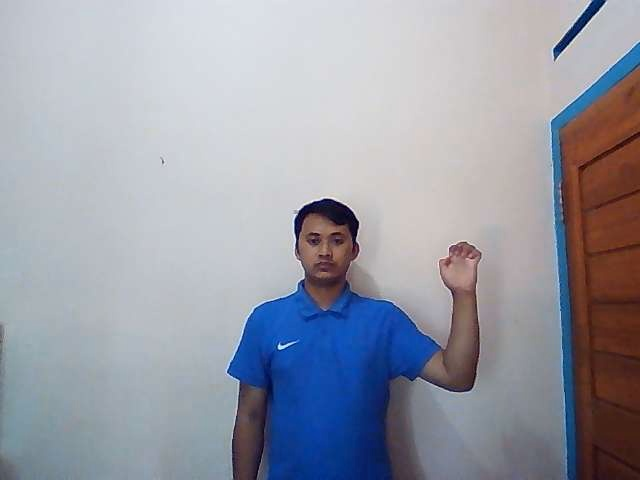E: (438, 241, 484, 293)
